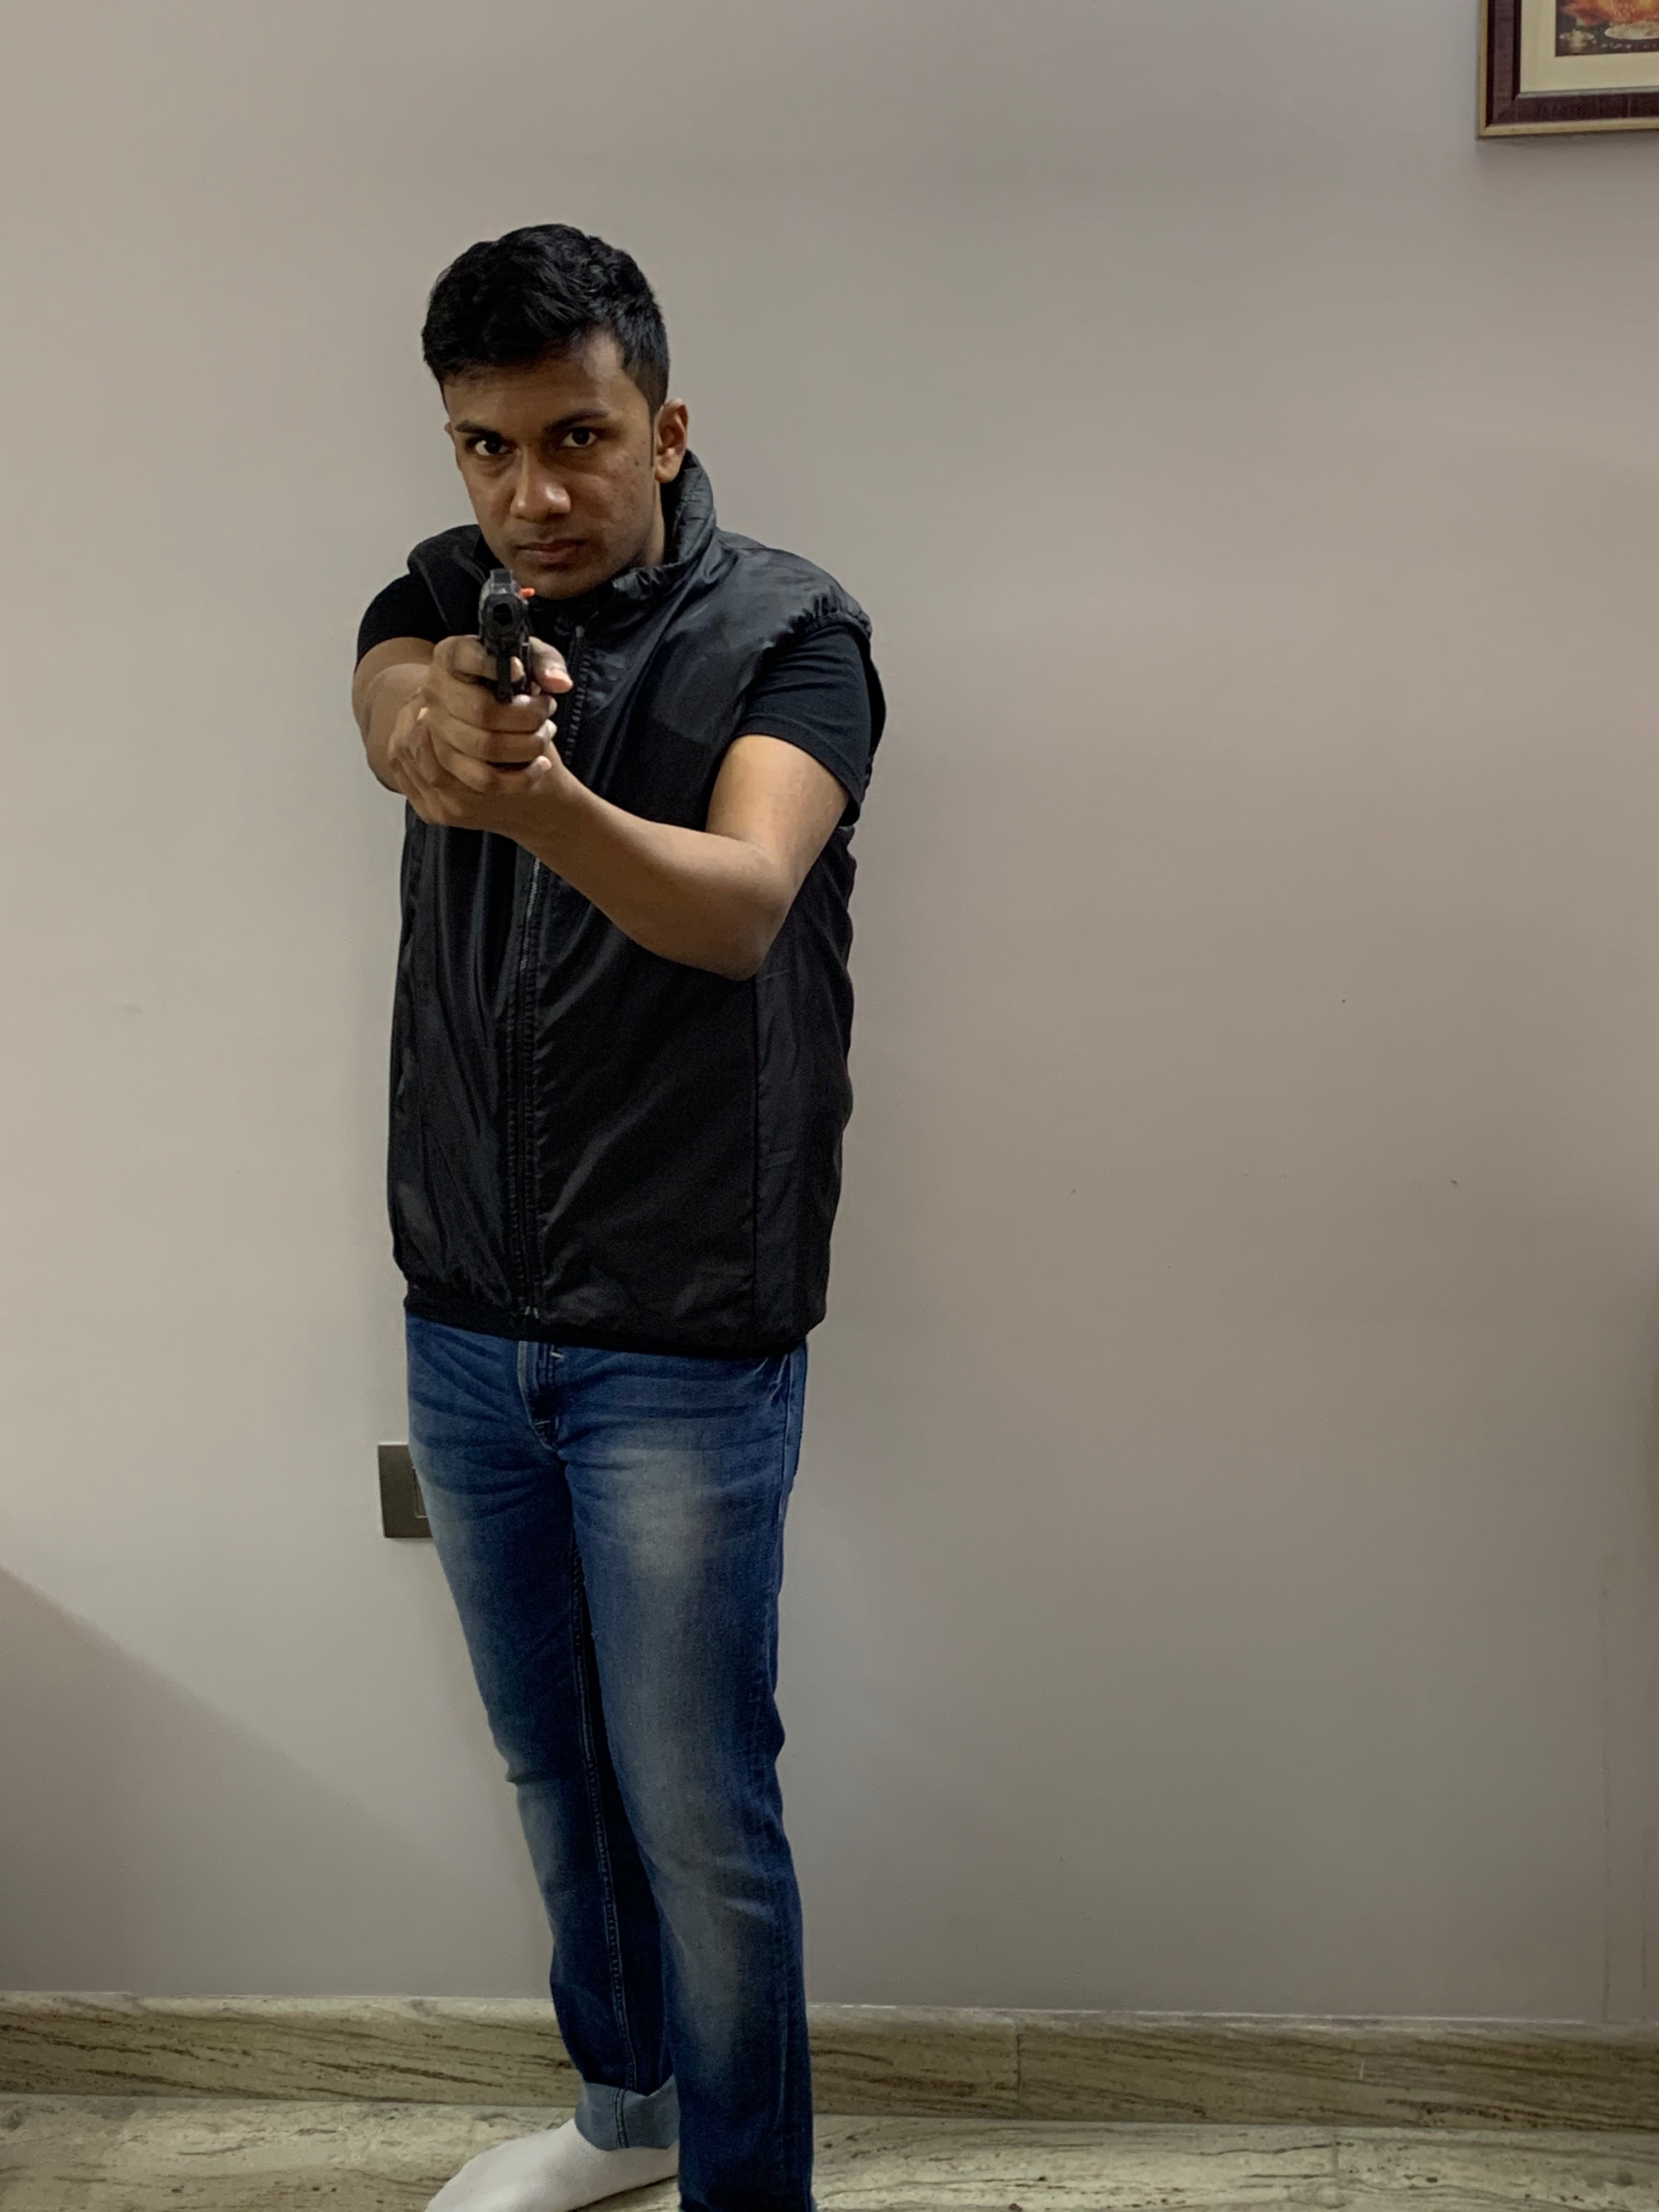gun: (481, 571, 519, 704)
